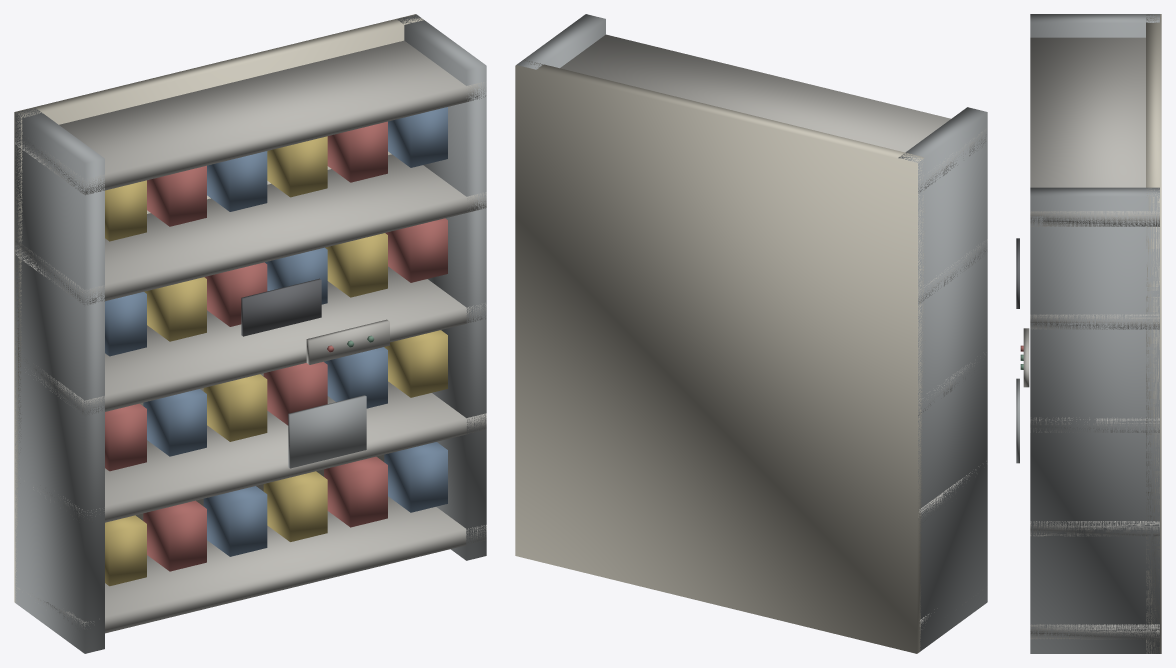
The model's file is retail_gondola__weathered.glb.
The picture shows the model from 3 angles, left to right: view 1: azimuth 30°, elevation 25°; view 2: azimuth 150°, elevation 25°; view 3: azimuth 270°, elevation 25°; orthographic projection. The views are drawn at different scales.
Visible parts, largest first — view 1: world; view 2: world; view 3: world.
Part boxes in pixels (x1,y1,x2,y2): world: [14, 14, 486, 653]; world: [515, 14, 987, 653]; world: [1016, 14, 1161, 653].
Bounding box in the file's own units: 1.4 × 1.63 × 0.47.
